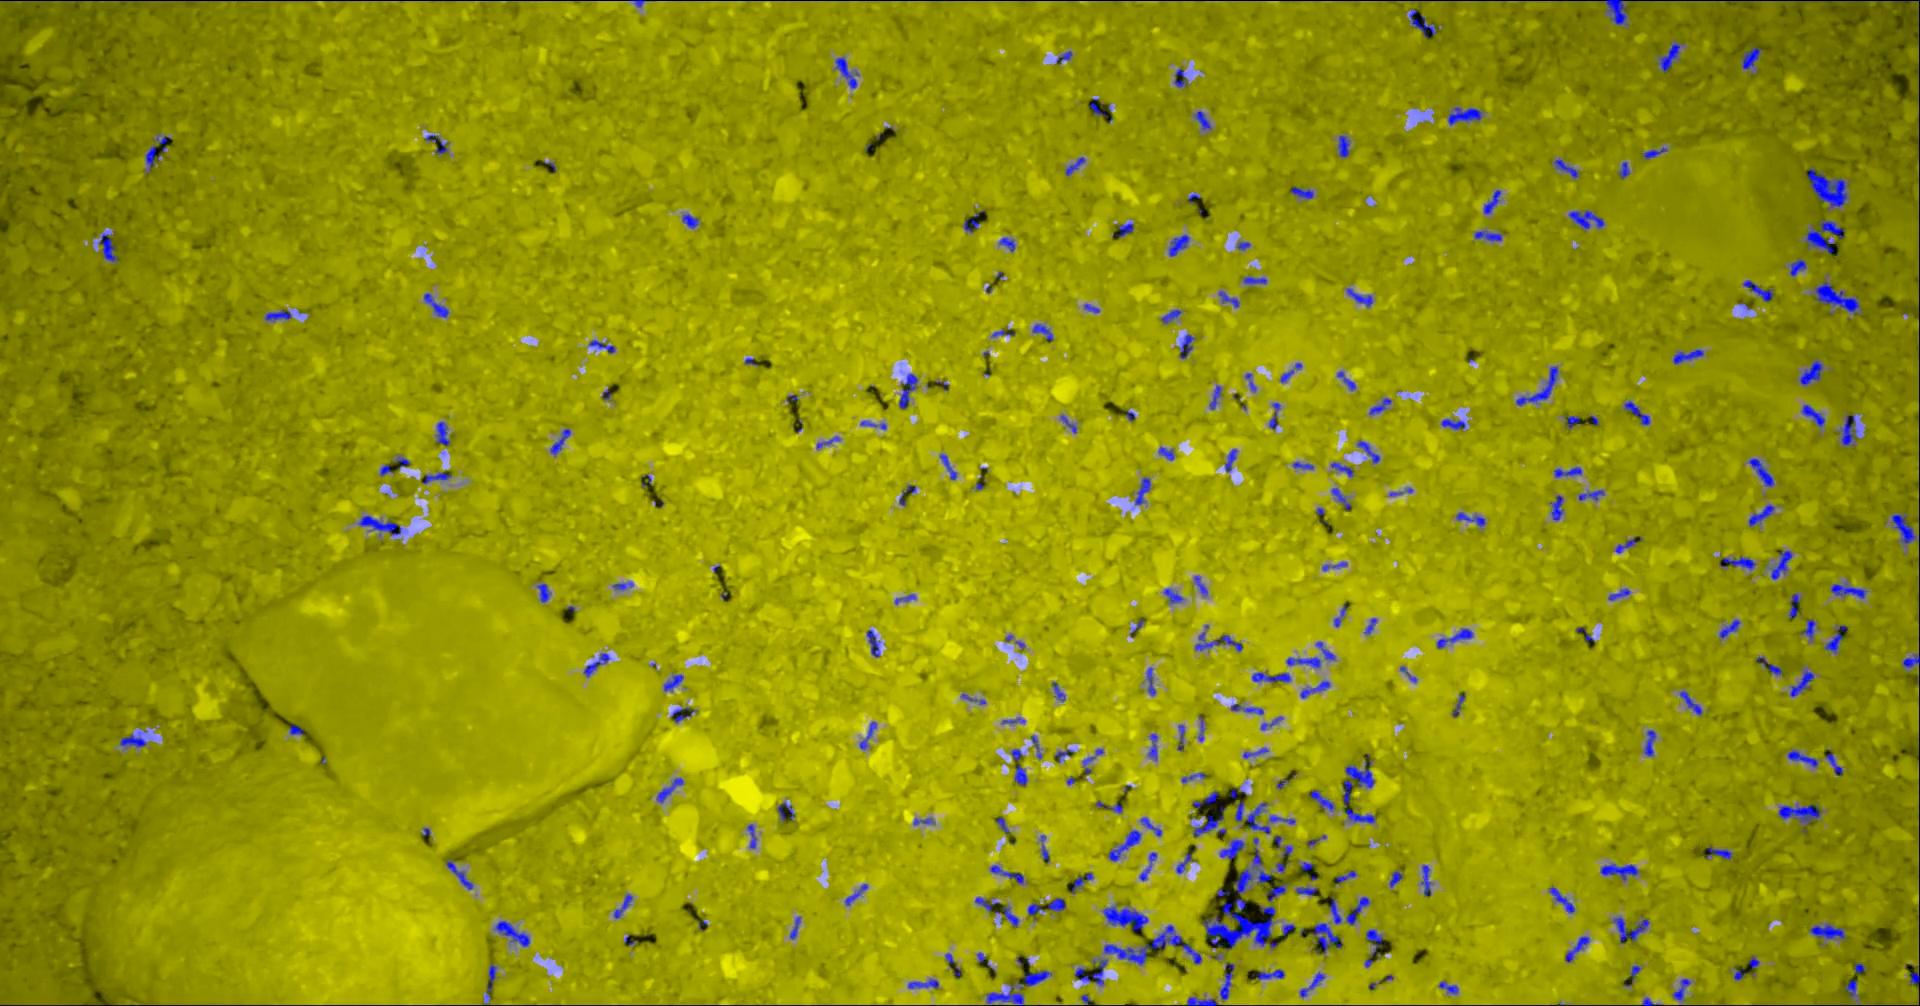ant: (1103, 923, 1200, 964), (1342, 753, 1375, 822), (985, 970, 1051, 1005), (1806, 166, 1848, 207), (1515, 366, 1557, 405), (1815, 281, 1859, 312), (1804, 218, 1844, 253), (1194, 624, 1242, 652), (1888, 0, 1919, 43), (1234, 801, 1270, 833), (1330, 895, 1369, 923), (1102, 906, 1147, 930), (1109, 829, 1140, 861), (1613, 916, 1650, 942), (494, 920, 530, 946), (358, 514, 401, 536), (1192, 807, 1224, 836), (1312, 922, 1341, 953), (1074, 959, 1107, 984), (1410, 8, 1437, 37), (1891, 514, 1919, 544), (446, 859, 472, 889), (1778, 804, 1820, 823), (834, 56, 858, 88), (1749, 457, 1774, 486), (1364, 929, 1383, 967), (1436, 627, 1472, 648), (1548, 887, 1575, 913), (1623, 400, 1650, 426), (1599, 0, 1627, 24), (1823, 624, 1846, 653), (1742, 279, 1773, 301), (898, 373, 917, 408), (423, 292, 448, 318), (1299, 972, 1324, 997), (1789, 669, 1813, 696), (657, 777, 683, 801), (1564, 935, 1589, 962), (1568, 210, 1604, 227), (1448, 105, 1481, 124), (990, 864, 1023, 883), (1600, 862, 1638, 879), (1658, 41, 1679, 71), (583, 653, 610, 676), (1011, 748, 1027, 785), (1770, 550, 1790, 579), (98, 231, 117, 262), (1799, 359, 1822, 385), (1830, 583, 1867, 598), (1300, 680, 1330, 699), (1356, 439, 1379, 464), (1679, 690, 1702, 714), (549, 428, 570, 453), (1749, 504, 1774, 526), (1787, 749, 1817, 767), (1309, 789, 1333, 810), (1553, 158, 1578, 178), (1346, 287, 1371, 307), (1219, 840, 1244, 860), (1219, 962, 1233, 998), (1672, 348, 1703, 365), (1840, 414, 1857, 445), (1719, 555, 1755, 569), (858, 721, 876, 749), (1138, 852, 1156, 880), (1801, 404, 1823, 426), (844, 883, 867, 904), (1331, 486, 1351, 511), (1756, 655, 1782, 674), (613, 893, 632, 918), (1810, 923, 1844, 937), (1168, 234, 1189, 257), (1070, 873, 1093, 893), (996, 906, 1018, 926), (938, 453, 956, 479), (1192, 790, 1218, 808), (1134, 478, 1150, 504), (425, 133, 447, 154), (1741, 46, 1760, 69), (1823, 752, 1843, 775), (1615, 536, 1641, 553), (1455, 512, 1484, 526), (1251, 672, 1290, 682), (1483, 189, 1500, 213), (1178, 334, 1195, 358), (1286, 655, 1321, 667), (1064, 156, 1084, 175), (1336, 370, 1355, 390), (1718, 619, 1738, 638), (119, 732, 145, 747), (1140, 817, 1161, 836), (1218, 290, 1239, 307), (898, 484, 916, 506), (1672, 978, 1690, 1000), (1368, 398, 1390, 414), (1230, 702, 1263, 714), (485, 964, 497, 997), (588, 339, 615, 353), (145, 145, 160, 169), (974, 895, 998, 911), (1316, 641, 1335, 661), (1549, 494, 1563, 520), (866, 629, 879, 657), (1095, 800, 1123, 813), (1330, 461, 1352, 476), (1032, 323, 1051, 340), (1208, 385, 1222, 409), (436, 420, 450, 445), (670, 708, 695, 721), (963, 212, 979, 232), (663, 674, 683, 691), (1175, 852, 1191, 873), (1642, 146, 1667, 159), (1420, 864, 1430, 895), (907, 978, 938, 988), (1553, 466, 1581, 478), (1194, 111, 1210, 130), (777, 801, 794, 821), (1163, 588, 1183, 603), (1224, 448, 1237, 473), (1269, 401, 1280, 428), (1788, 592, 1799, 619), (1242, 747, 1269, 758), (1705, 846, 1732, 857), (422, 473, 451, 483), (1789, 258, 1806, 276), (1290, 185, 1313, 198), (1440, 418, 1465, 429), (1112, 222, 1133, 236), (1473, 230, 1501, 240), (1161, 309, 1181, 323), (1145, 667, 1156, 695), (1256, 969, 1284, 979), (1578, 489, 1603, 500), (1090, 98, 1105, 116), (155, 135, 170, 152), (264, 310, 291, 320), (1644, 729, 1655, 756), (1147, 733, 1157, 760), (1186, 996, 1217, 1005), (1194, 575, 1208, 594), (536, 583, 550, 602), (1337, 135, 1349, 158), (789, 916, 800, 939), (1051, 681, 1064, 701), (1437, 981, 1458, 993), (681, 213, 698, 227), (1608, 588, 1629, 600), (1181, 772, 1205, 782), (860, 420, 886, 429), (1269, 815, 1295, 824), (1040, 835, 1049, 861), (1803, 619, 1815, 639), (1335, 870, 1355, 882), (998, 238, 1015, 251), (1158, 446, 1175, 460), (1173, 69, 1186, 86), (747, 823, 756, 848), (1048, 897, 1065, 909), (1844, 979, 1857, 997), (894, 593, 916, 603), (990, 328, 1015, 337), (1902, 654, 1919, 667), (1389, 870, 1402, 887), (1243, 276, 1266, 285), (1564, 415, 1580, 428), (1749, 955, 1759, 974), (1295, 887, 1317, 895), (1618, 161, 1629, 178), (612, 580, 632, 589), (1733, 967, 1746, 981), (1027, 903, 1043, 915), (1291, 461, 1313, 469), (1177, 724, 1183, 749), (288, 724, 303, 734), (1909, 970, 1919, 984), (1793, 0, 1868, 1)
